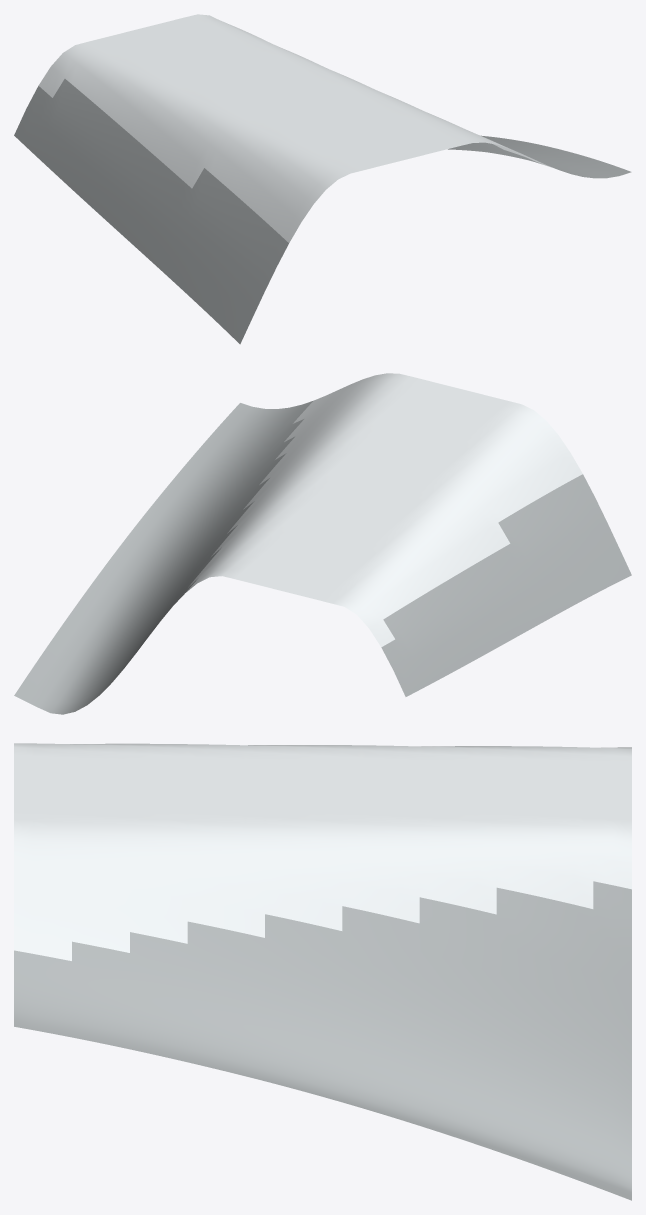
The model's file is alpine-12-8.glb.
3 views of the same model, one above another, from view 1: azimuth 30°, elevation 25°; view 2: azimuth 150°, elevation 25°; view 3: azimuth 270°, elevation 25° (orthographic). The views are drawn at different scales.
Parts seen in each view (by area): view 1: alpine-12-8; view 2: alpine-12-8; view 3: alpine-12-8.
Boxes of the visible parts, bbox=[...] form: alpine-12-8: bbox=[14, 14, 631, 344]; alpine-12-8: bbox=[14, 373, 631, 714]; alpine-12-8: bbox=[14, 743, 631, 1200].
Size of the model in its own units: 256 by 127 by 256.
Materials: 2 (2 with a texture image).
